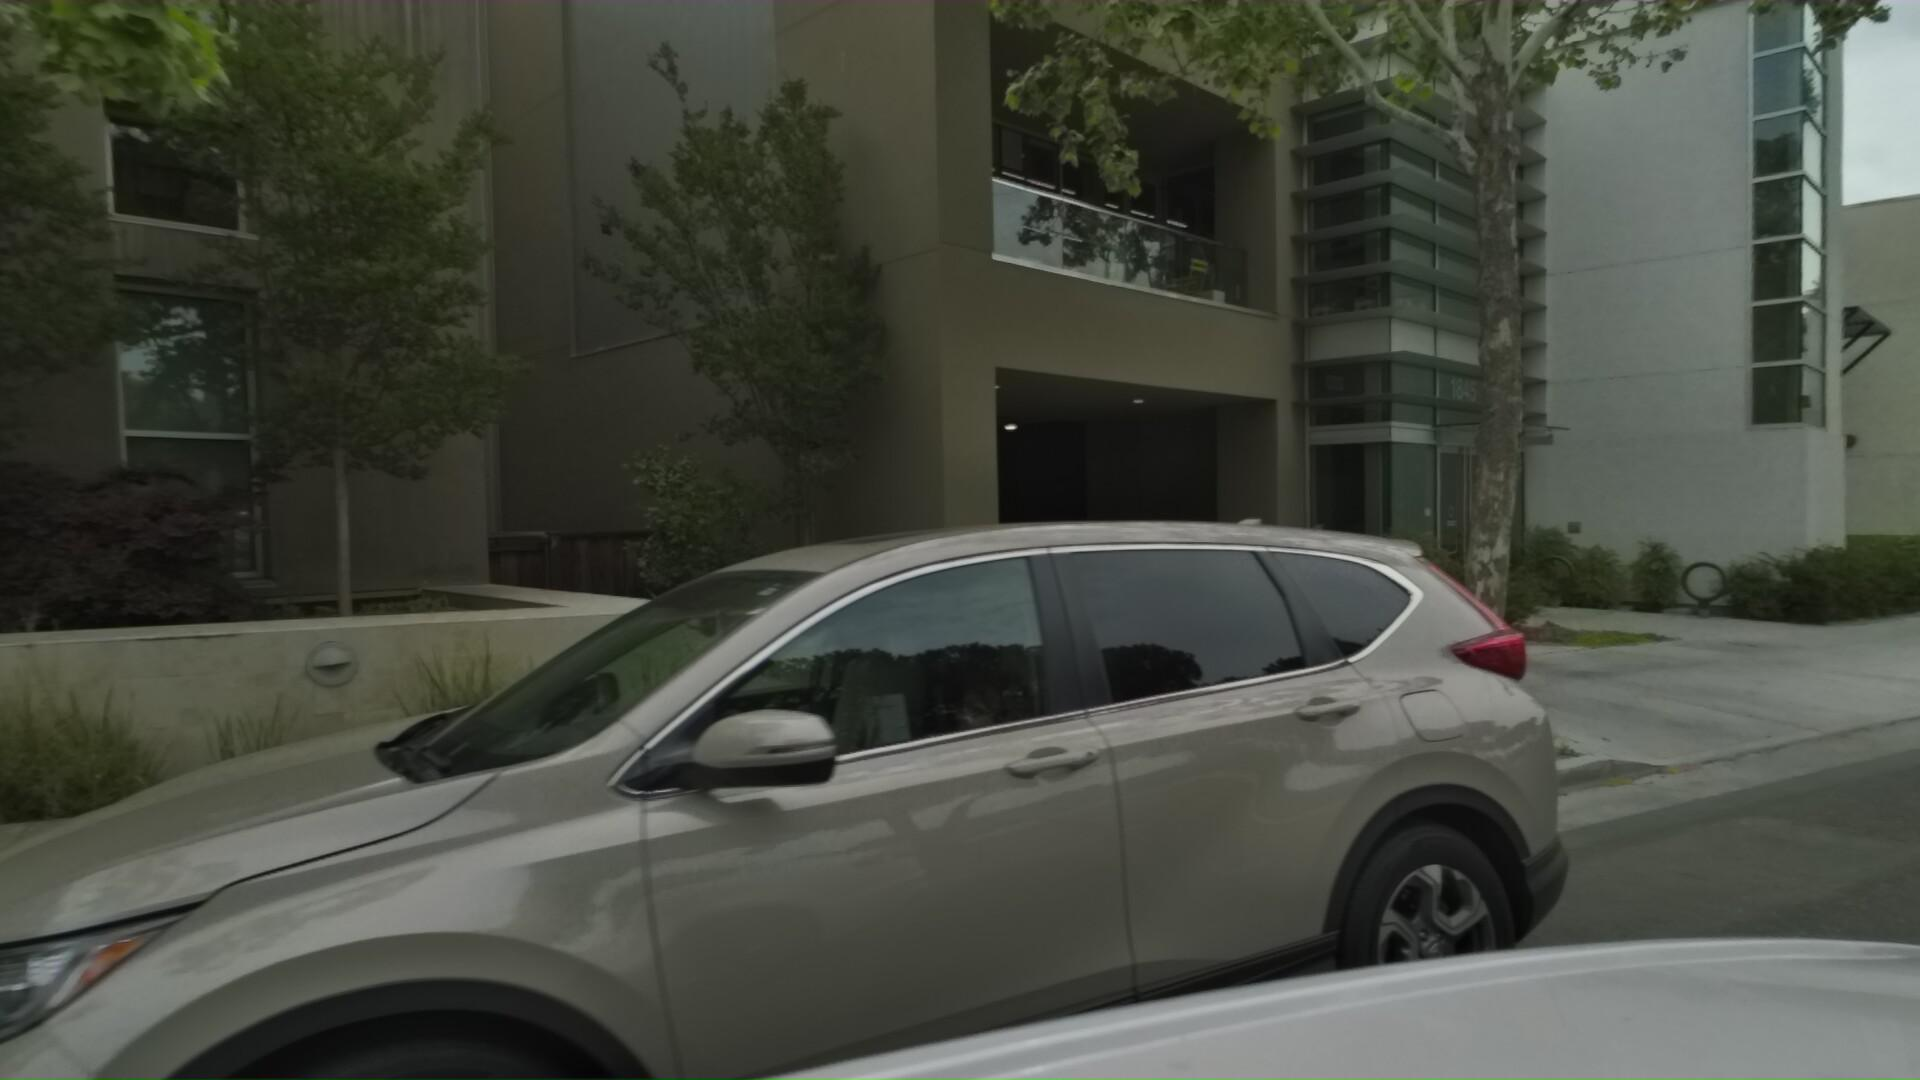car: (0, 509, 1725, 1080)
